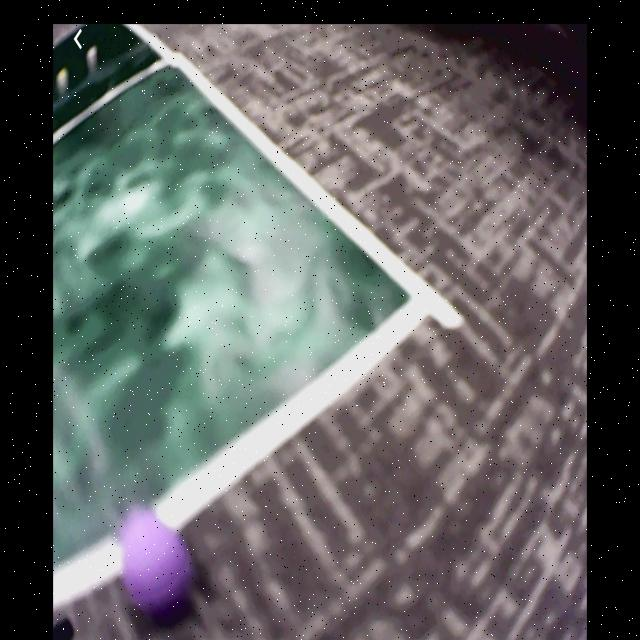ball: (126, 510, 192, 608)
